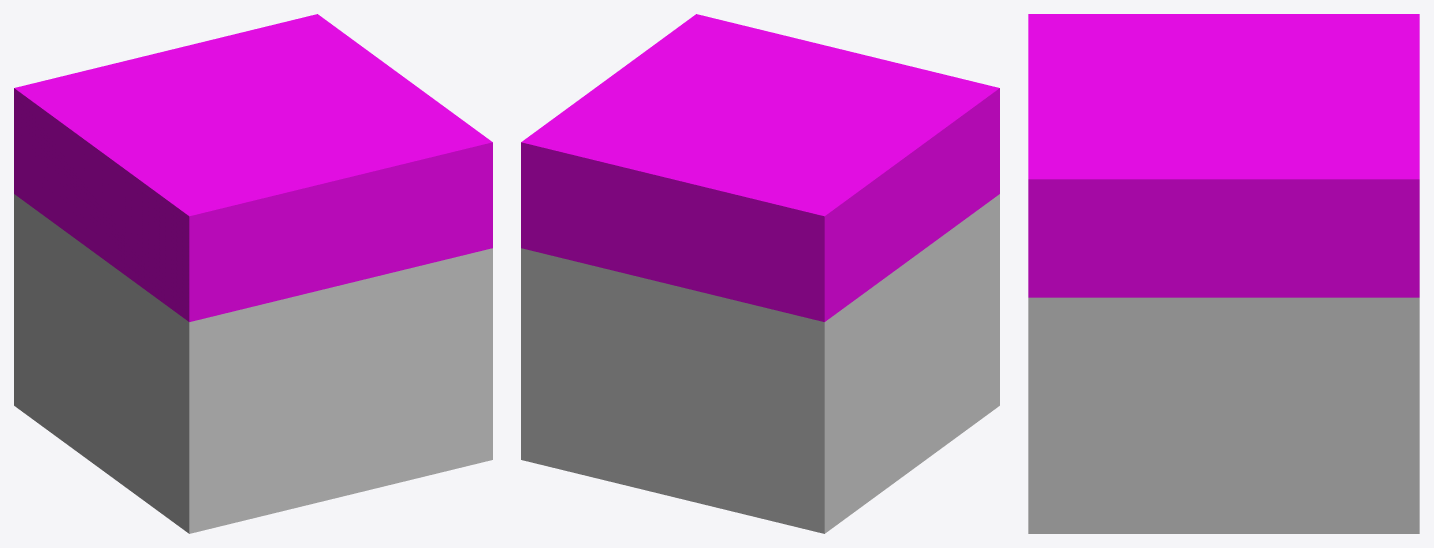
Rendered from Builder.fbx.
3 views of the same model, side by side, from view 1: azimuth 30°, elevation 25°; view 2: azimuth 150°, elevation 25°; view 3: azimuth 270°, elevation 25° (orthographic). The views are drawn at different scales.
Parts seen in each view (by area): view 1: Builder; view 2: Builder; view 3: Builder.
Part boxes in pixels (box(x1,y1,x2,y2)): Builder: box(14, 14, 492, 533); Builder: box(521, 14, 999, 533); Builder: box(1028, 14, 1419, 533).
Size of the model in its own units: 1 by 1 by 1.
